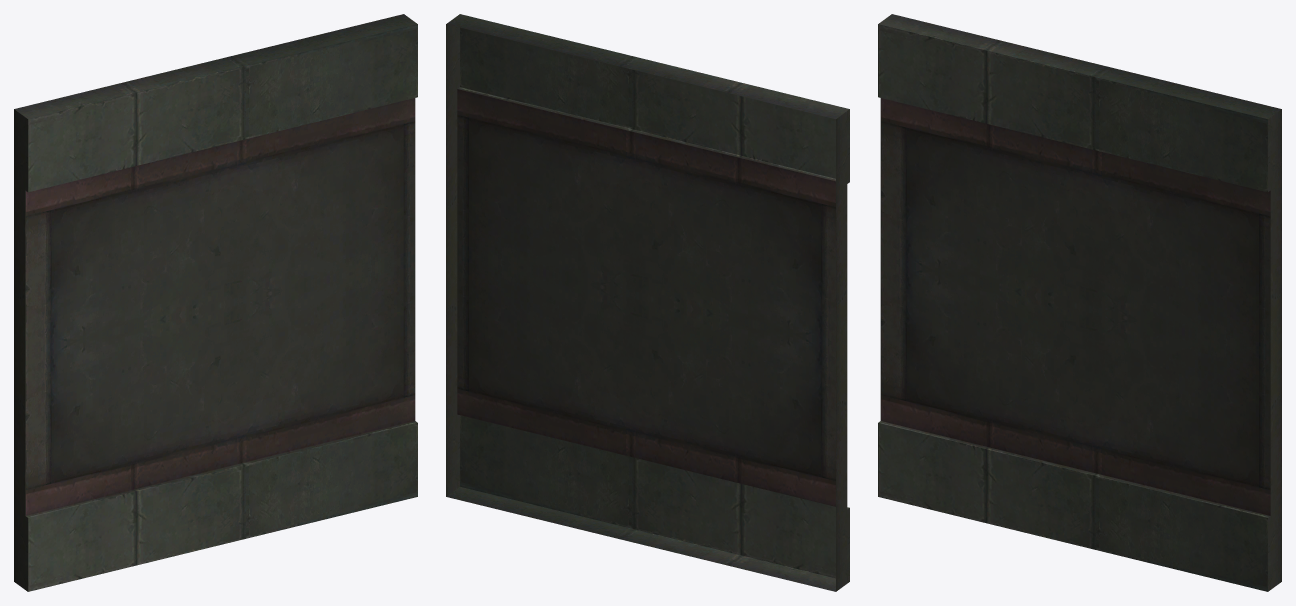
Rendered from shenjie_dongxue_374_jieti03_b.obj.
3 renders of one model, left to right at view 1: azimuth 30°, elevation 25°; view 2: azimuth 150°, elevation 25°; view 3: azimuth 330°, elevation 25°, orthographic.
Parts seen in each view (by area): view 1: shenjie_dongxue_374_jieti03_b; view 2: shenjie_dongxue_374_jieti03_b; view 3: shenjie_dongxue_374_jieti03_b.
Part boxes in pixels (x1,y1,x2,y2): shenjie_dongxue_374_jieti03_b: [14, 14, 417, 591]; shenjie_dongxue_374_jieti03_b: [446, 14, 849, 591]; shenjie_dongxue_374_jieti03_b: [878, 14, 1281, 591].
Size of the model in its own units: 329 by 381 by 20.29.
1 material, 1 textured.
